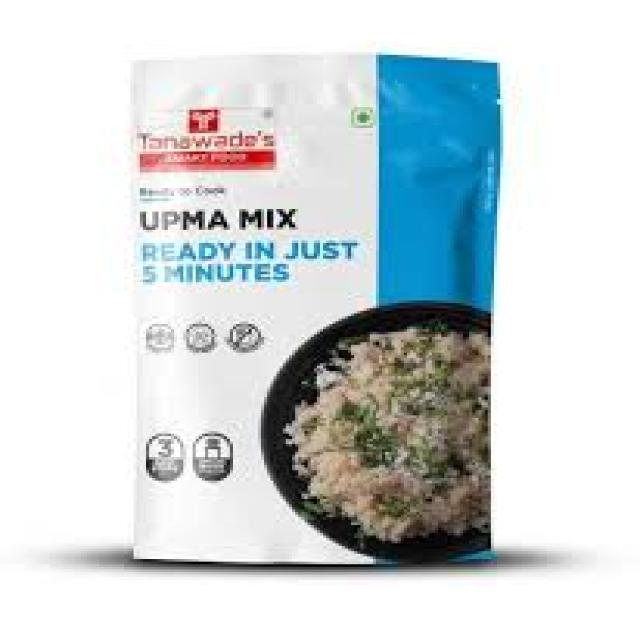POHA: (283, 321, 488, 538)
